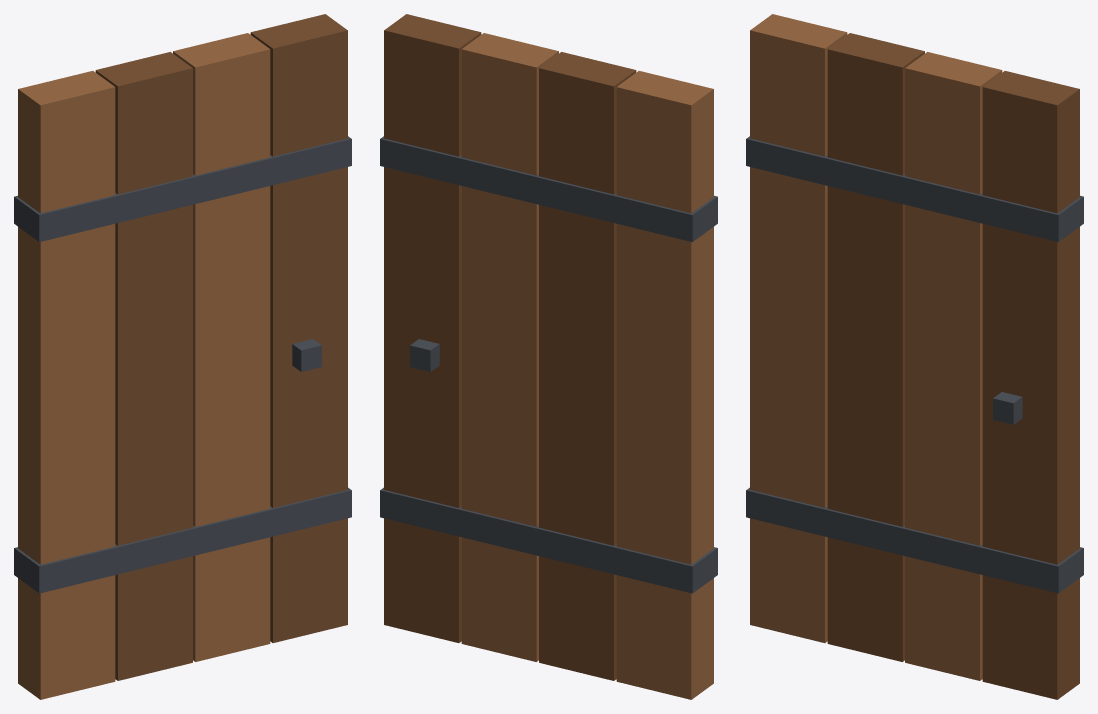
File: porta.glb
The picture shows the model from 3 angles, left to right: view 1: azimuth 30°, elevation 25°; view 2: azimuth 150°, elevation 25°; view 3: azimuth 330°, elevation 25°; orthographic projection.
Visible parts, largest first — view 1: porta; view 2: porta; view 3: porta.
Part boxes in pixels (box(x1,y1,x2,y2)): porta: box(14, 14, 351, 699); porta: box(380, 14, 717, 699); porta: box(746, 14, 1083, 699).
Size of the model in its own units: 1.21 by 2.2 by 0.27.
